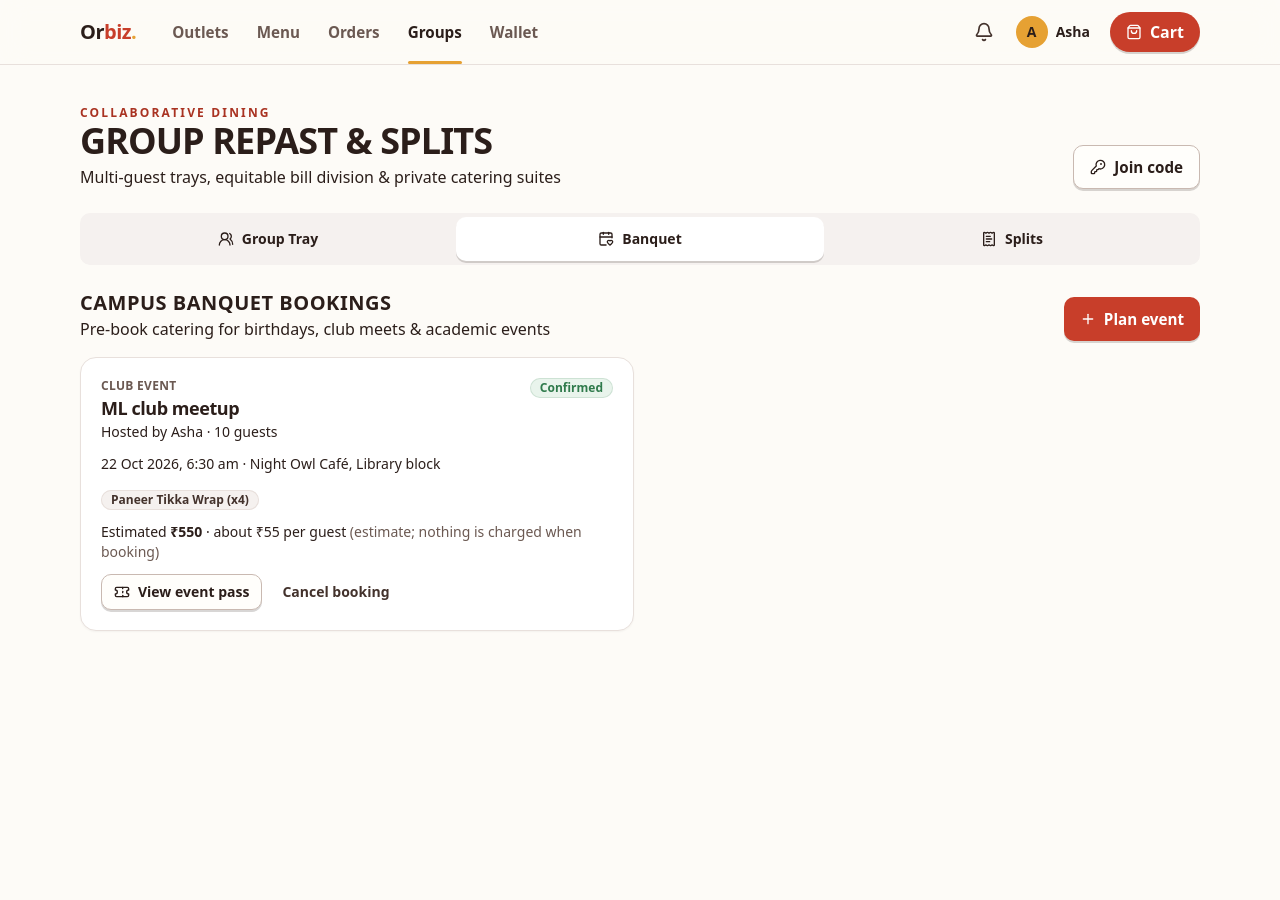
Scenario: banquets › shows persisted bookings with their package and the event pass
The width and height of the screenshot is (1280, 900).
Expected: the heading "ML club meetup" is shown, [101,396,239,420]
Expected: the text "Paneer Tikka Wrap (x4)" is shown, [101,490,259,510]
Click the link "View event pass" at (182, 592), box [101,574,262,610]
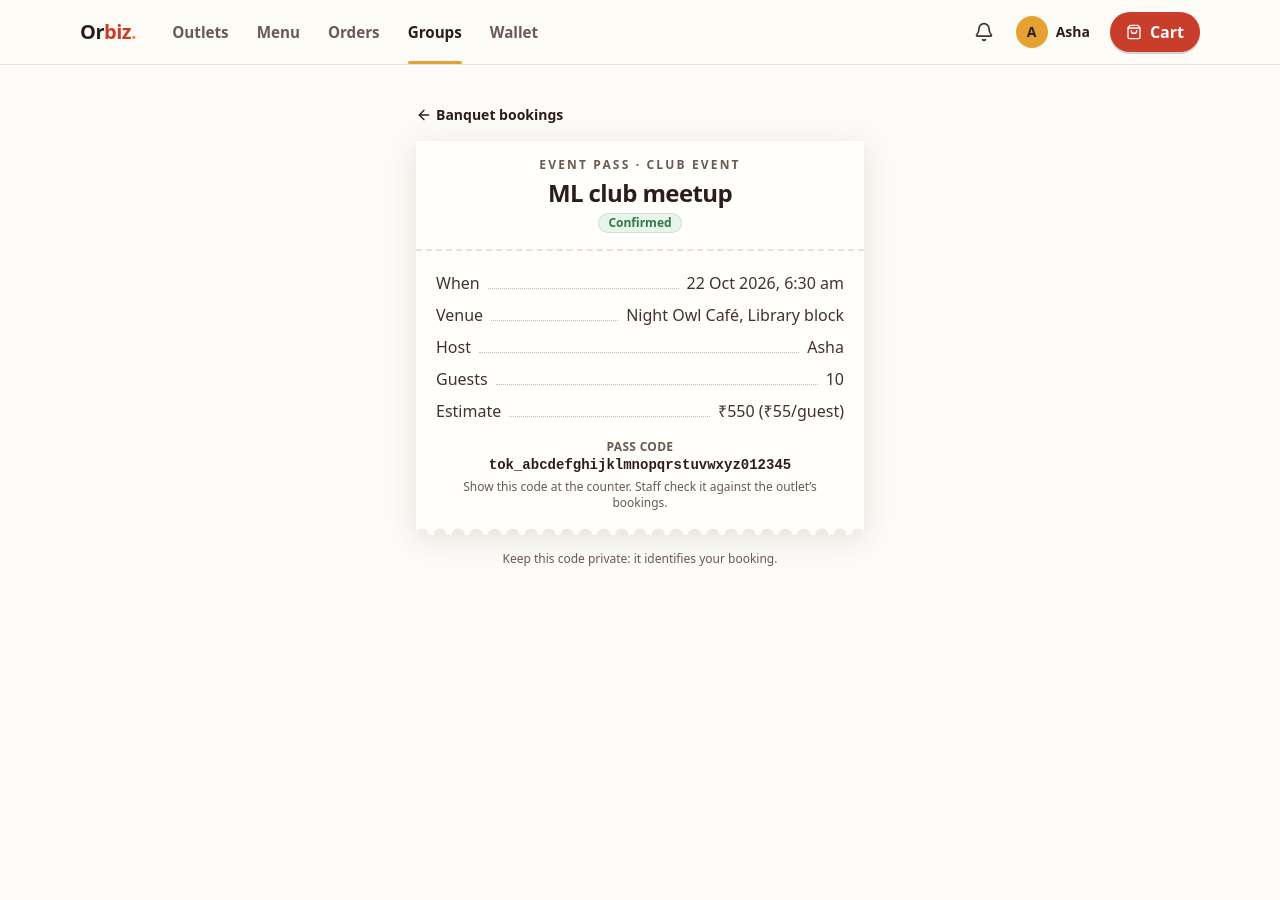
Result: the text named "Pass code" reads "tok_abcdefghijklmnopqrstuvwxyz012345" at [489,457,791,473]
Result: the text "Show this code at the counter" is shown at [463,478,817,511]
